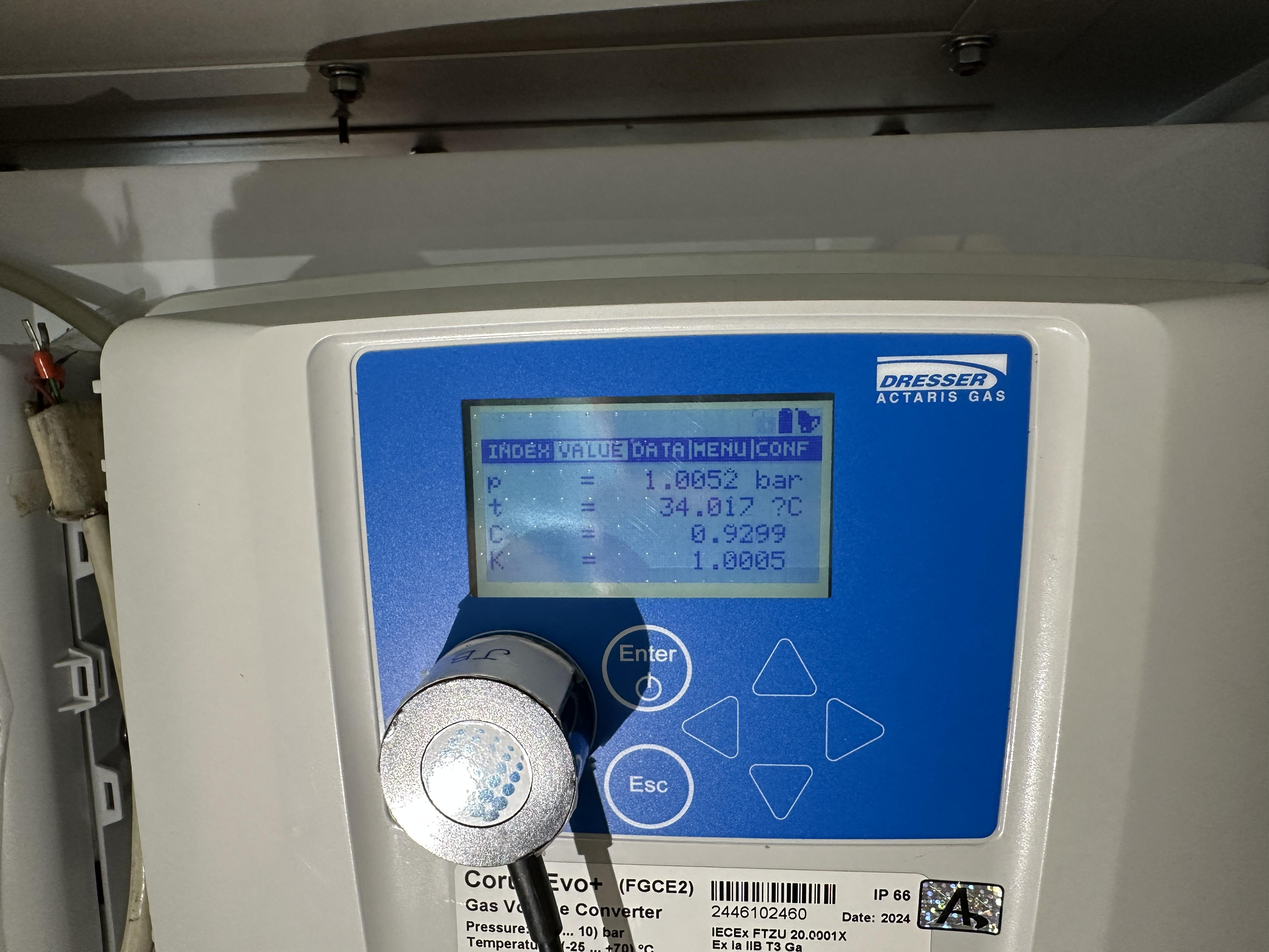digital_screen: (471, 401, 837, 604)
